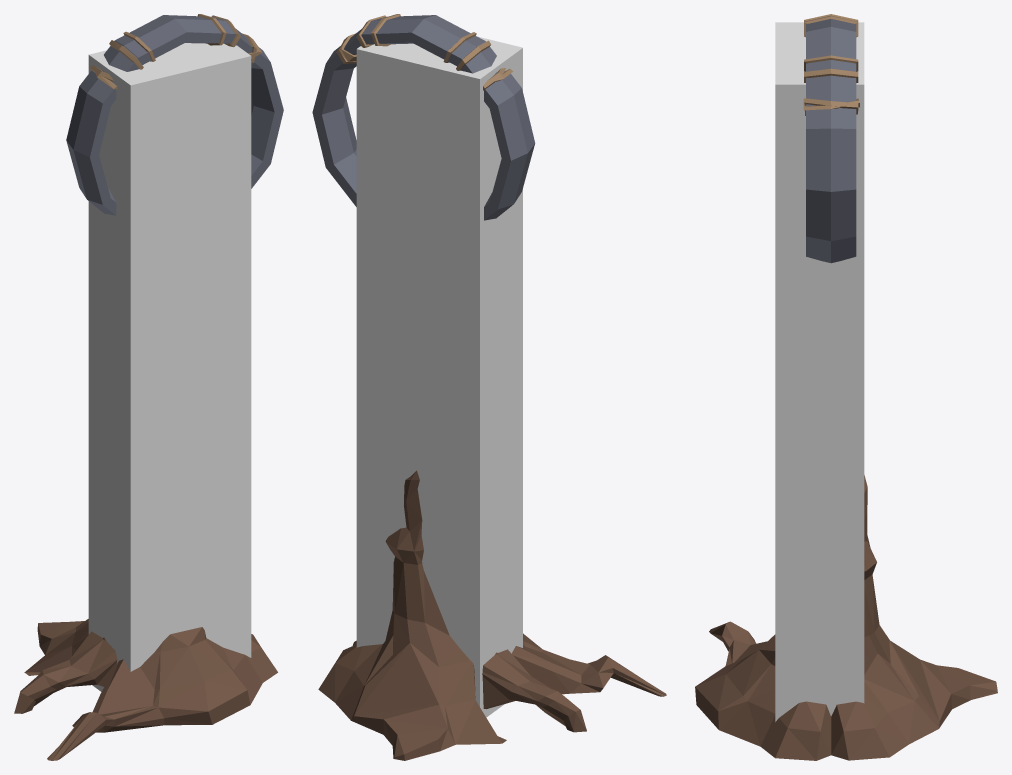
File: elf_sculpture_dream_catcher.glb
3 views of the same model, side by side, from view 1: azimuth 30°, elevation 25°; view 2: azimuth 150°, elevation 25°; view 3: azimuth 270°, elevation 25° (orthographic). The views are drawn at different scales.
Parts seen in each view (by area): view 1: Cube.003, stolb_2; view 2: Cube.003, stolb_2; view 3: Cube.003, stolb_2.
Part boxes in pixels (x1,y1,x2,y2): Cube.003: (88, 43, 251, 691); stolb_2: (14, 14, 283, 760); Cube.003: (356, 36, 522, 717); stolb_2: (312, 14, 666, 760); Cube.003: (775, 22, 864, 721); stolb_2: (695, 14, 997, 760).
Bounding box in the file's own units: 1.53 × 3.39 × 1.34.
Materials: 1 (1 with a texture image).
